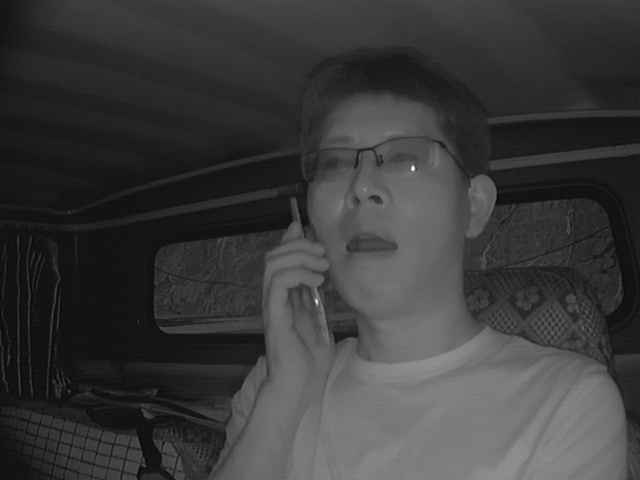hand: (242, 223, 342, 383)
